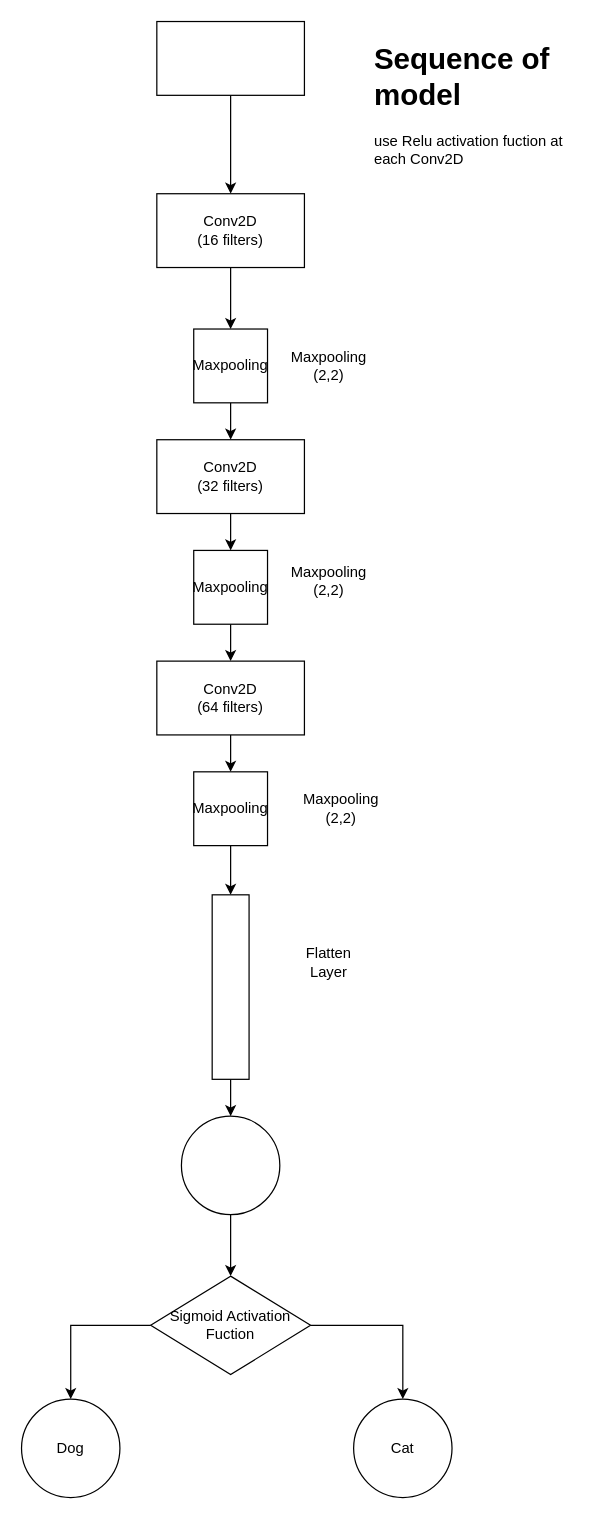
Some shapes in this 615 by 1519 pixel diagram are drawn without their labels. The shapes that lost their labels are listed below. From the top down, each one's centre as x and y in pixels, then its label:
the point at 230,57: Input image (128,128,3)
the point at 230,1165: Dense layer
